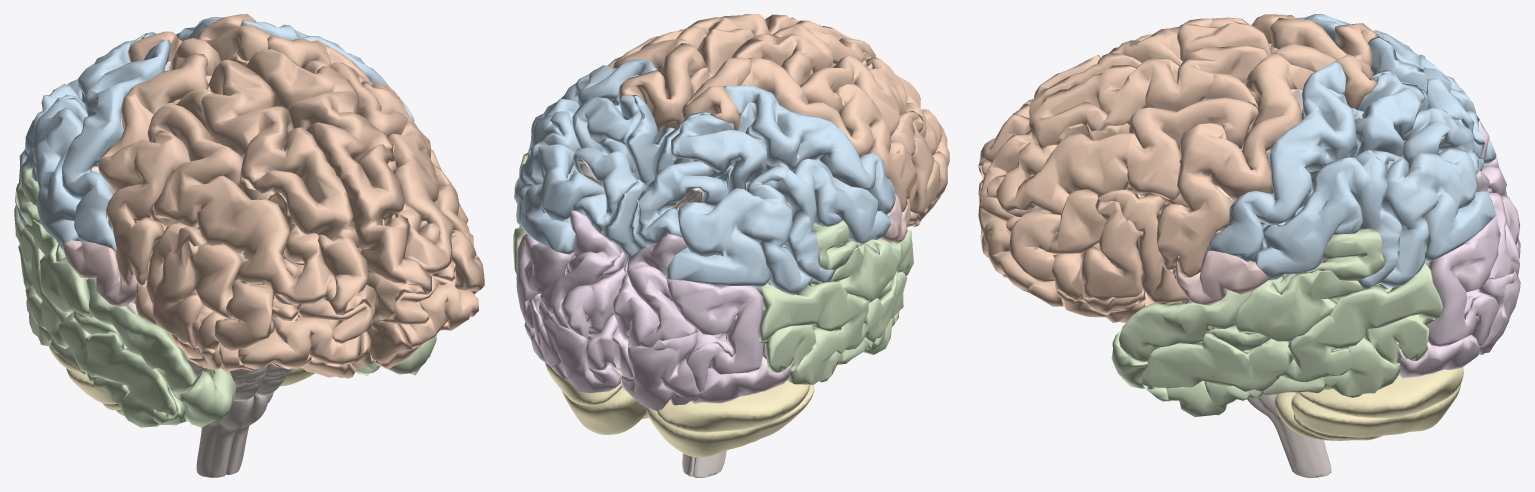
The model's file is brain-v1.glb.
3 renders of one model, left to right at view 1: azimuth 30°, elevation 25°; view 2: azimuth 150°, elevation 25°; view 3: azimuth 270°, elevation 25°, orthographic. The views are drawn at different scales.
Parts seen in each view (by area): view 1: Middle frontal gyrus.r, Superior frontal gyrus.r, Superior frontal gyrus.l, Precentral gyrus.r, Middle frontal gyrus.l, Postcentral gyrus.r, Middle temporal gyrus.r, Superior temporal gyrus (Lateral part).r, Supramarginal gyrus.r, Orbital gyri (Frontomarginal gyrus and sulcus*).r, Triangular part of inferior frontal gyrus.r, Inferior frontal sulcus.r (+26 smaller); view 2: Angular gyrus.r, Superior parietal lobule.r, Postcentral gyrus.r, Supramarginal gyrus.r, Angular gyrus.l, Lateral occipital gyrus (Middle occipital gyrus*).r, Precentral gyrus.r, Middle temporal gyrus.r, Superior parietal lobule.l, Middle frontal gyrus.r, Inferior temporal gyrus.r, Superior semilunar lobule.r (+32 smaller); view 3: Middle frontal gyrus.l, Precentral gyrus.l, Middle temporal gyrus.l, Superior frontal gyrus.l, Postcentral gyrus.l, Supramarginal gyrus.l, Superior temporal gyrus (Lateral part).l, Angular gyrus.l, Inferior temporal gyrus.l, Superior frontal gyrus.r, Superior parietal lobule.l, Lateral occipital gyrus (Middle occipital gyrus*).l (+26 smaller).
Part boxes in pixels (<box>): Middle frontal gyrus.r: <box>147,103,336,350</box>; Superior frontal gyrus.r: <box>200,59,376,320</box>; Superior frontal gyrus.l: <box>230,49,431,328</box>; Precentral gyrus.r: <box>98,53,208,285</box>; Middle frontal gyrus.l: <box>328,62,484,291</box>; Postcentral gyrus.r: <box>62,40,170,251</box>; Middle temporal gyrus.r: <box>14,205,177,418</box>; Superior temporal gyrus (Lateral part).r: <box>25,219,199,395</box>; Supramarginal gyrus.r: <box>15,97,87,249</box>; Orbital gyri (Frontomarginal gyrus and sulcus*).r: <box>238,308,361,369</box>; Triangular part of inferior frontal gyrus.r: <box>152,239,203,347</box>; Inferior frontal sulcus.r: <box>151,206,246,318</box>; Angular gyrus.r: <box>666,164,812,294</box>; Superior parietal lobule.r: <box>636,113,767,246</box>; Postcentral gyrus.r: <box>724,85,895,214</box>; Supramarginal gyrus.r: <box>762,158,891,283</box>; Angular gyrus.l: <box>516,111,604,254</box>; Lateral occipital gyrus (Middle occipital gyrus*).r: <box>666,278,763,392</box>; Precentral gyrus.r: <box>741,57,916,212</box>; Middle temporal gyrus.r: <box>756,271,907,353</box>; Superior parietal lobule.l: <box>571,94,644,233</box>; Middle frontal gyrus.r: <box>800,55,949,166</box>; Inferior temporal gyrus.r: <box>759,316,895,384</box>; Superior semilunar lobule.r: <box>656,380,809,432</box>; Middle frontal gyrus.l: <box>986,97,1258,282</box>; Precentral gyrus.l: <box>1156,52,1314,277</box>; Middle temporal gyrus.l: <box>1141,262,1442,391</box>; Superior frontal gyrus.l: <box>978,45,1267,205</box>; Postcentral gyrus.l: <box>1205,61,1356,262</box>; Supramarginal gyrus.l: <box>1255,150,1401,289</box>; Superior temporal gyrus (Lateral part).l: <box>1119,269,1364,363</box>; Angular gyrus.l: <box>1371,148,1496,288</box>; Inferior temporal gyrus.l: <box>1166,314,1434,416</box>; Superior frontal gyrus.r: <box>978,18,1278,181</box>; Superior parietal lobule.l: <box>1354,73,1484,173</box>; Lateral occipital gyrus (Middle occipital gyrus*).l: <box>1425,215,1500,346</box>.
Size of the model in its own units: 0.1378 by 0.1608 by 0.1807.
